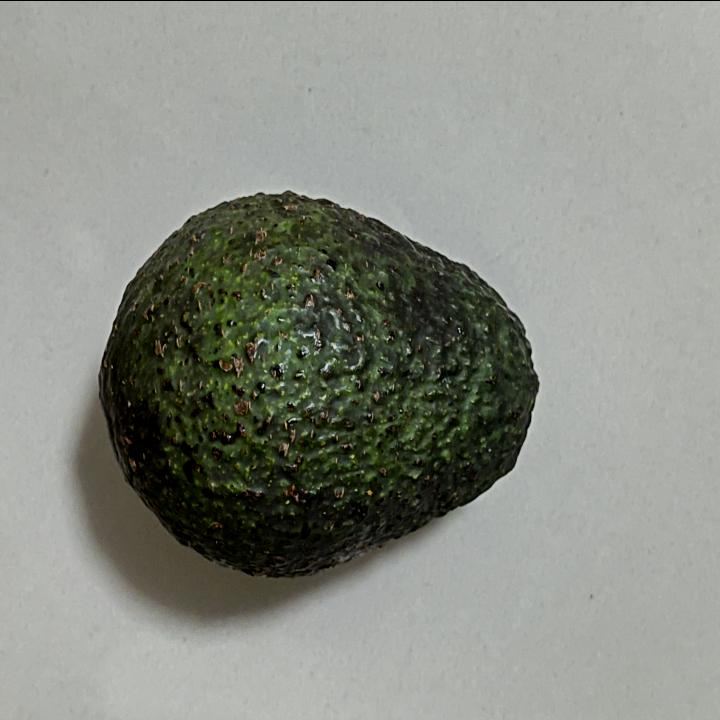Level1: (81, 168, 560, 592)
